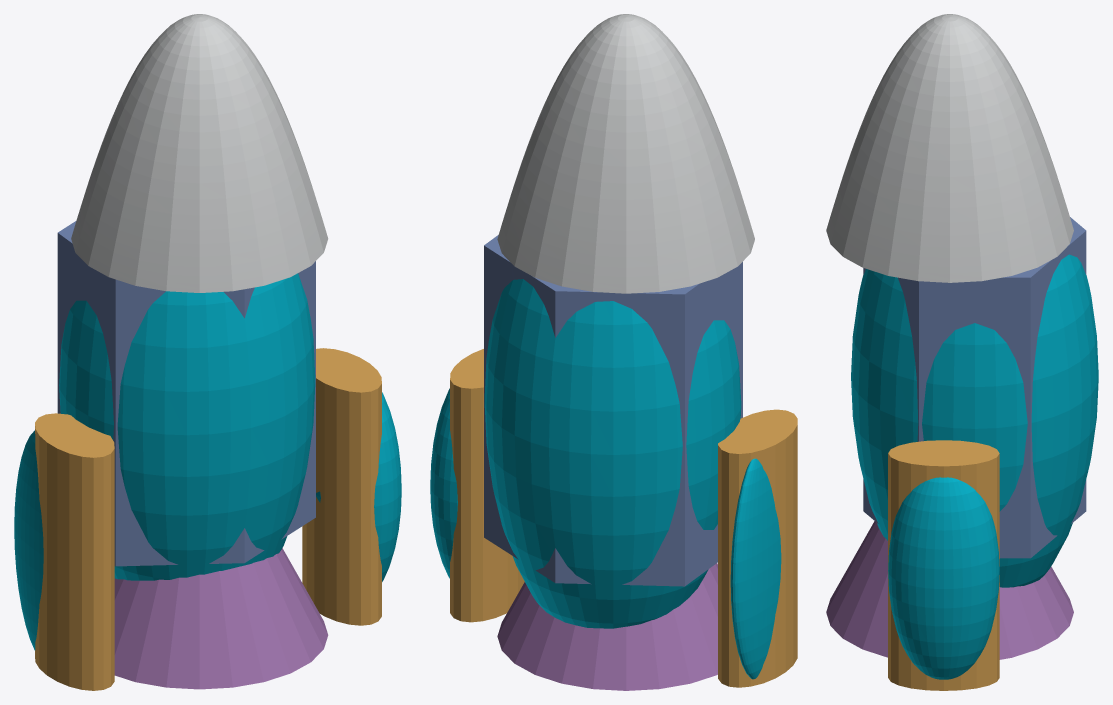
Rendered from seanrocket.glb.
3 renders of one model, left to right at view 1: azimuth 30°, elevation 25°; view 2: azimuth 150°, elevation 25°; view 3: azimuth 270°, elevation 25°, orthographic. The views are drawn at different scales.
Parts seen in each view (by area): view 1: Mesh_Mesh_head_geo.001_lambert2SG.001; view 2: Mesh_Mesh_head_geo.001_lambert2SG.001; view 3: Mesh_Mesh_head_geo.001_lambert2SG.001.
Boxes of the visible parts, bbox=[...] form: Mesh_Mesh_head_geo.001_lambert2SG.001: bbox=[14, 14, 401, 690]; Mesh_Mesh_head_geo.001_lambert2SG.001: bbox=[430, 14, 797, 690]; Mesh_Mesh_head_geo.001_lambert2SG.001: bbox=[826, 14, 1098, 690].
Size of the model in its own units: 31 by 53 by 22.
